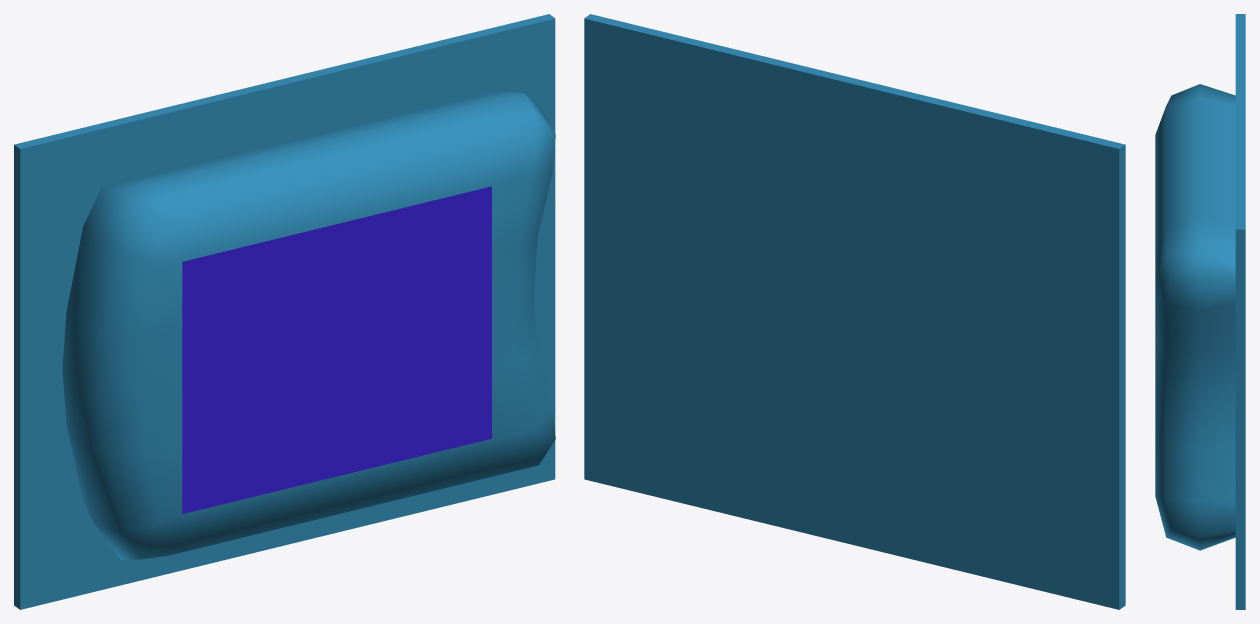
File: Sausage.fbx
3 renders of one model, left to right at view 1: azimuth 30°, elevation 25°; view 2: azimuth 150°, elevation 25°; view 3: azimuth 270°, elevation 25°, orthographic. The views are drawn at different scales.
Visible parts, largest first — view 1: Sausage; view 2: Sausage; view 3: Sausage.
Part boxes in pixels (x1,y1,x2,y2): Sausage: (14, 14, 555, 609); Sausage: (584, 14, 1125, 609); Sausage: (1155, 14, 1245, 609).
Bounding box in the file's own units: 43.46 × 7.79 × 35.76.
